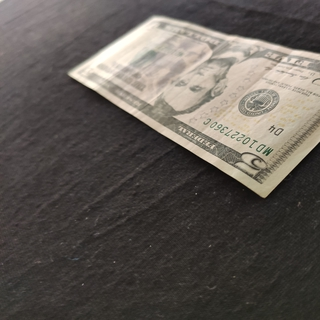5USDFront: (66, 14, 320, 199)
